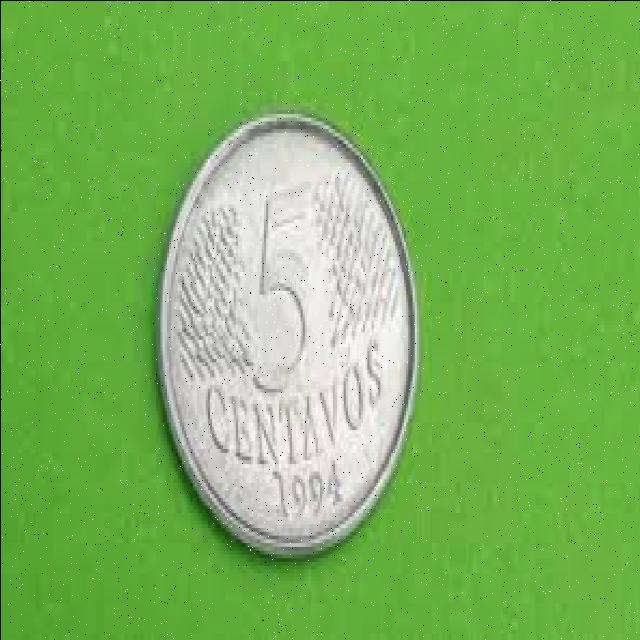5 cent: (165, 117, 418, 555)
